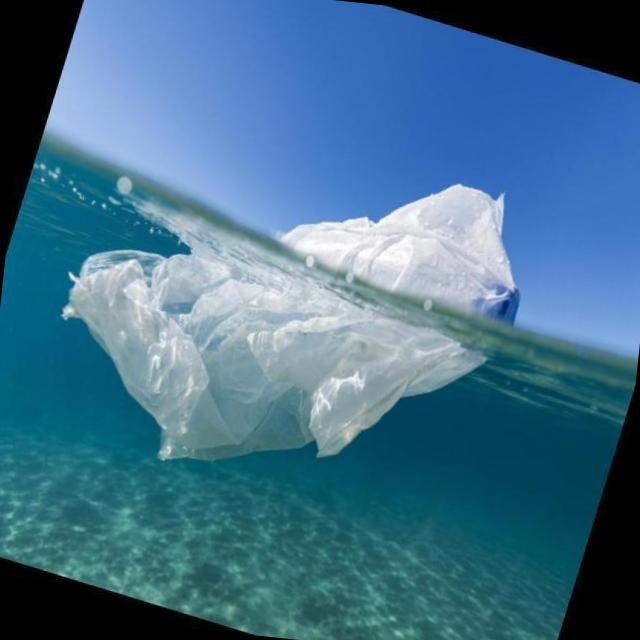KantongPlastik: (46, 140, 534, 496)
